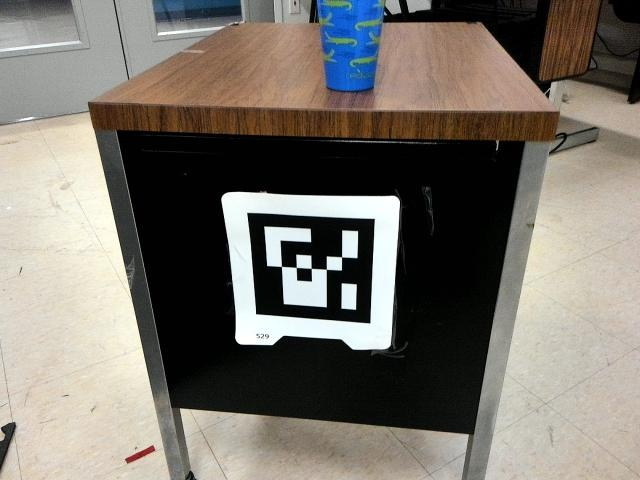water_cup: (309, 1, 388, 97)
